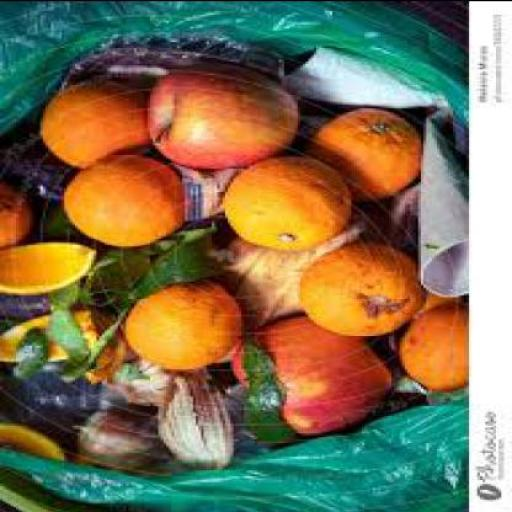biodegradable: (60, 48, 340, 144), (210, 208, 386, 335), (225, 315, 394, 438), (145, 66, 292, 172), (298, 240, 418, 340), (59, 153, 182, 249), (223, 160, 351, 250), (303, 112, 421, 202), (120, 282, 233, 374), (37, 80, 150, 167), (161, 368, 230, 474), (123, 224, 212, 302), (102, 354, 212, 409), (72, 402, 158, 472), (10, 358, 96, 428), (56, 311, 142, 378), (400, 304, 464, 391), (0, 239, 94, 296), (0, 128, 70, 202), (0, 309, 91, 364), (78, 242, 155, 303), (242, 332, 281, 448), (78, 306, 129, 386), (0, 410, 68, 464), (29, 197, 81, 249), (182, 163, 225, 222), (376, 185, 412, 251), (5, 327, 45, 383), (0, 181, 32, 250), (380, 372, 424, 412), (410, 286, 464, 318), (0, 294, 48, 326), (48, 310, 78, 360), (48, 284, 78, 316), (370, 327, 394, 359)
paper: (273, 50, 448, 110), (415, 109, 467, 298), (177, 168, 225, 220), (104, 66, 164, 80)
plastic: (0, 1, 466, 132), (0, 399, 465, 511)
